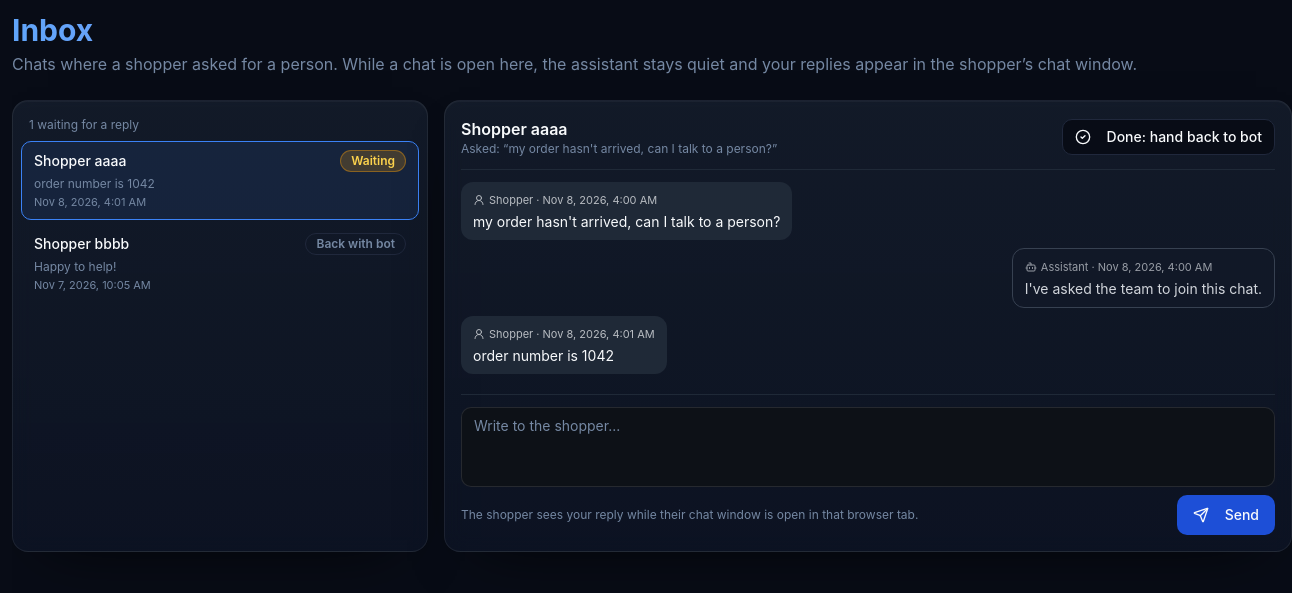
Test: InboxView › won't send an empty reply, then sends a real one
Click the button "Send": (1226, 515) [1177,495,1275,535]
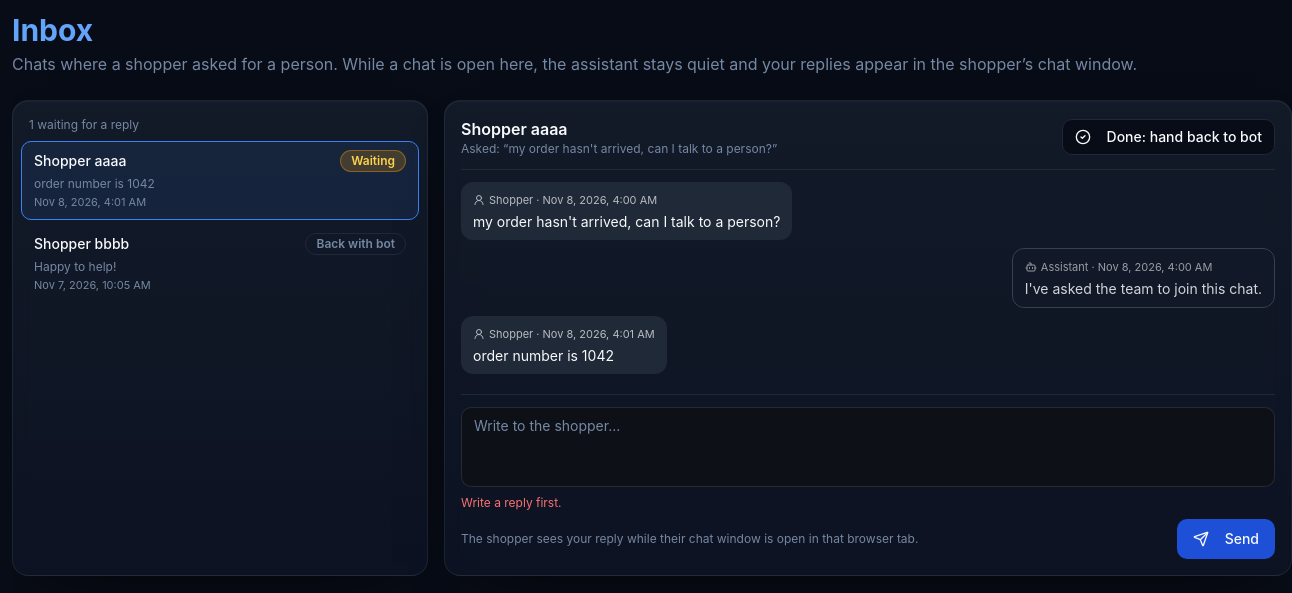
Check: the message reads "Write a reply first.", box [461,495,562,510]
In the text box named "Reply": (868, 447) [461,407,1275,487], type "It ships tomorrow!"
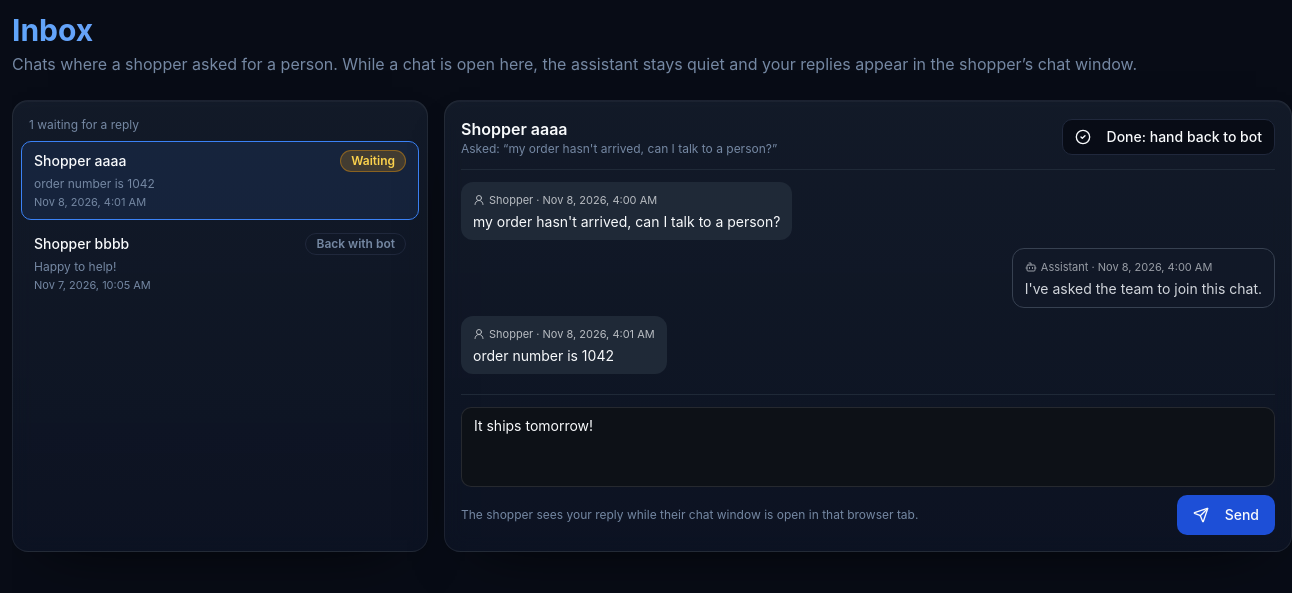
Click the button "Send": (1226, 515) [1177,495,1275,535]
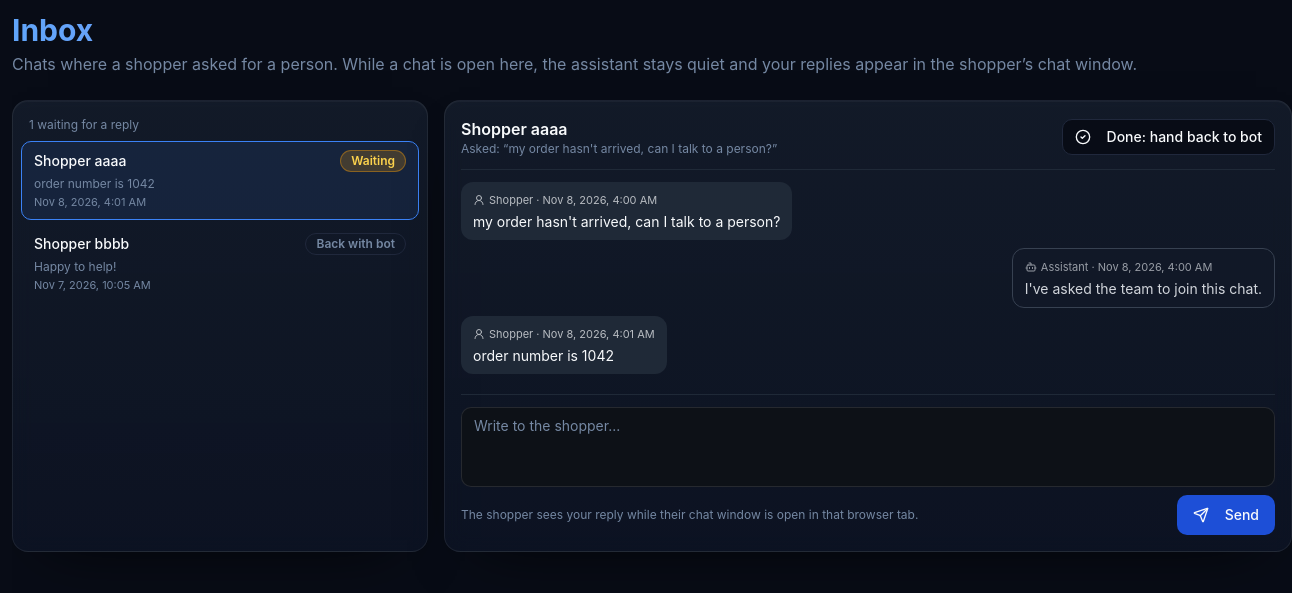
Check: the text box named "Reply" is empty, box [461,407,1275,487]
